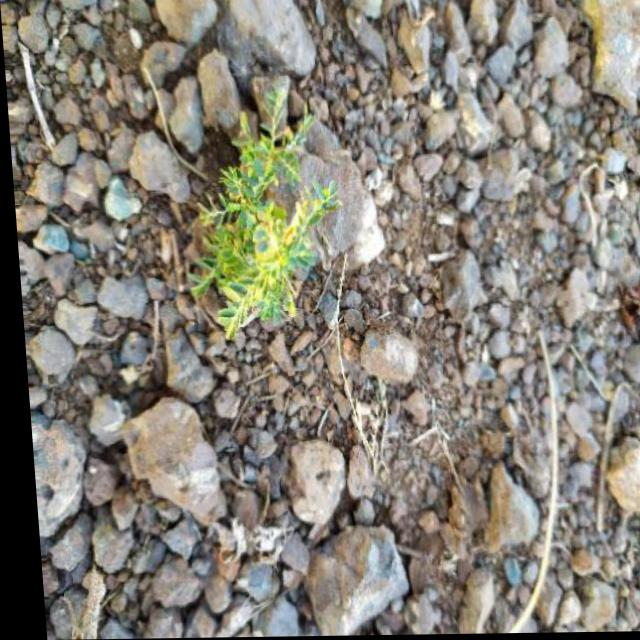weed: (136, 106, 359, 328)
